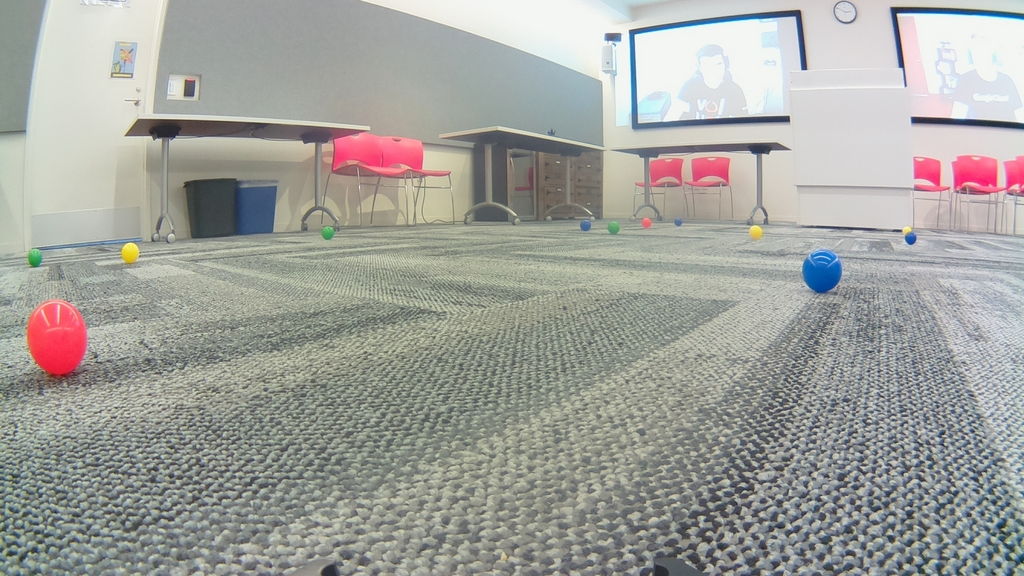ball: (641, 217, 650, 228)
